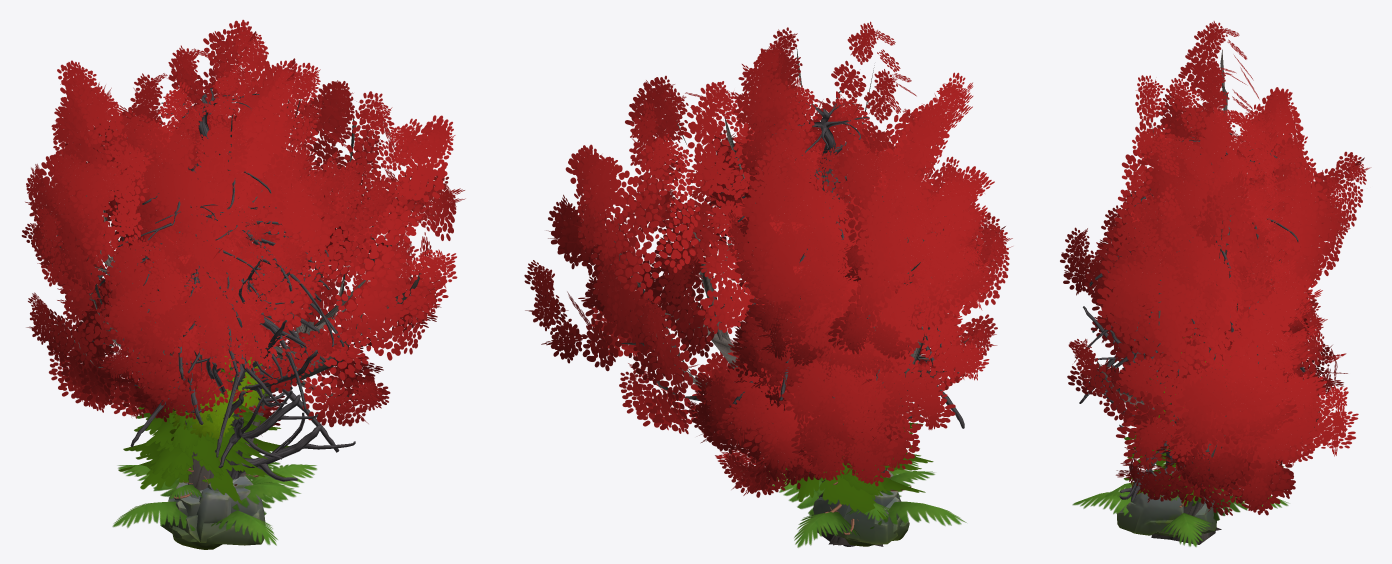
The model's file is nature.glb.
The picture shows the model from 3 angles, left to right: view 1: azimuth 30°, elevation 25°; view 2: azimuth 150°, elevation 25°; view 3: azimuth 270°, elevation 25°; orthographic projection. The views are drawn at different scales.
Visible parts, largest first — view 1: TwistedTree_2, TwistedTree_1, TwistedTree_5, TwistedTree_3, TwistedTree_4, Fern_1, DeadTree_4, Pine_3, Pine_2, DeadTree_1, DeadTree_5, RockMedium_3 (+5 smaller); view 2: TwistedTree_1, TwistedTree_2, TwistedTree_3, TwistedTree_5, TwistedTree_4, Fern_1, Pine_2, RockMedium_1, DeadTree_5; view 3: TwistedTree_1, TwistedTree_3, TwistedTree_2, TwistedTree_5, TwistedTree_4, Fern_1, RockMedium_3, DeadTree_4, DeadTree_5, RockMedium_1, DeadTree_1.
Part boxes in pixels (x1,y1,x2,y2): TwistedTree_2: (21, 60, 320, 490); TwistedTree_1: (145, 61, 465, 476); TwistedTree_5: (48, 95, 395, 490); TwistedTree_3: (65, 19, 367, 484); TwistedTree_4: (91, 107, 349, 324); Fern_1: (112, 462, 316, 545); DeadTree_4: (169, 245, 355, 481); Pine_3: (123, 275, 268, 498); Pine_2: (118, 369, 289, 503); DeadTree_1: (149, 206, 344, 457); DeadTree_5: (94, 88, 339, 452); RockMedium_3: (172, 475, 265, 549); TwistedTree_1: (524, 75, 883, 546); TwistedTree_2: (727, 21, 1012, 545); TwistedTree_3: (711, 39, 943, 489); TwistedTree_5: (686, 116, 1012, 545); TwistedTree_4: (710, 117, 930, 542); Fern_1: (767, 461, 966, 547); Pine_2: (785, 432, 925, 519); RockMedium_1: (811, 491, 897, 544); DeadTree_5: (710, 91, 964, 428); TwistedTree_1: (1067, 171, 1358, 544); TwistedTree_3: (1082, 93, 1371, 536); TwistedTree_2: (1096, 21, 1308, 537); TwistedTree_5: (1060, 161, 1351, 536); TwistedTree_4: (1112, 162, 1346, 385); Fern_1: (1072, 461, 1288, 546); RockMedium_3: (1117, 491, 1183, 535); DeadTree_4: (1083, 265, 1215, 499); DeadTree_5: (1089, 133, 1305, 501); RockMedium_1: (1194, 496, 1216, 533); DeadTree_1: (1075, 298, 1264, 403).
Size of the model in its own units: 17.96 by 19.09 by 12.13.
37 materials, 37 textured.
